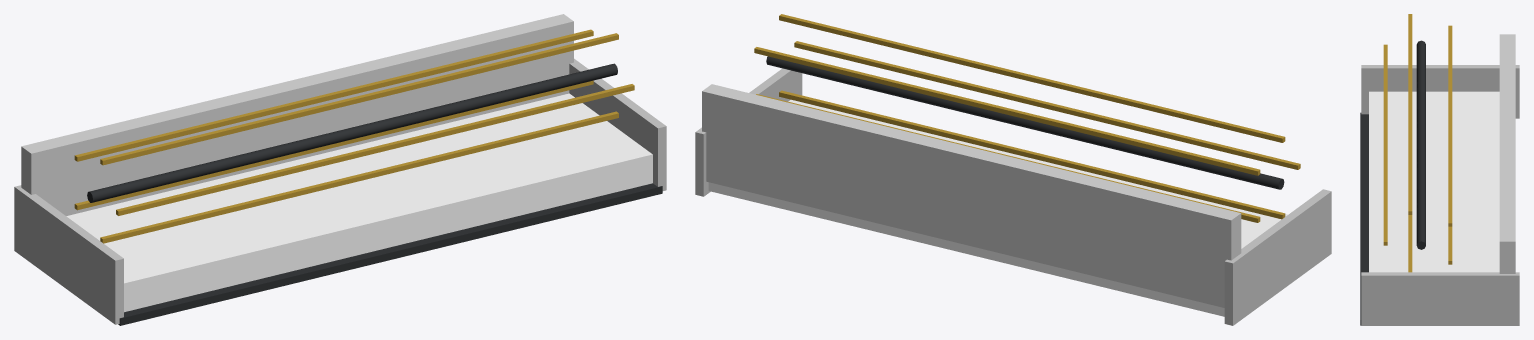
File: header_grain_6.glb
3 renders of one model, left to right at view 1: azimuth 30°, elevation 25°; view 2: azimuth 150°, elevation 25°; view 3: azimuth 270°, elevation 25°, orthographic. The views are drawn at different scales.
Visible parts, largest first — view 1: body, reel; view 2: body, reel; view 3: body, reel.
Boxes of the visible parts, <box> form: body: <box>14,14,666,325</box>; reel: <box>74,29,634,243</box>; body: <box>695,68,1331,325</box>; reel: <box>754,14,1300,222</box>; body: <box>1360,34,1519,325</box>; reel: <box>1383,14,1452,272</box>.
Bounding box in the file's own units: 6.3 × 1.52 × 2.01.
